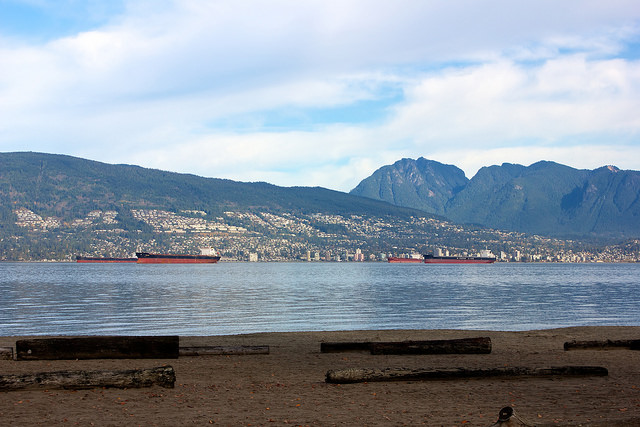bulk carrier: (134, 247, 221, 266), (425, 244, 498, 263), (76, 249, 139, 262), (389, 251, 424, 266)
